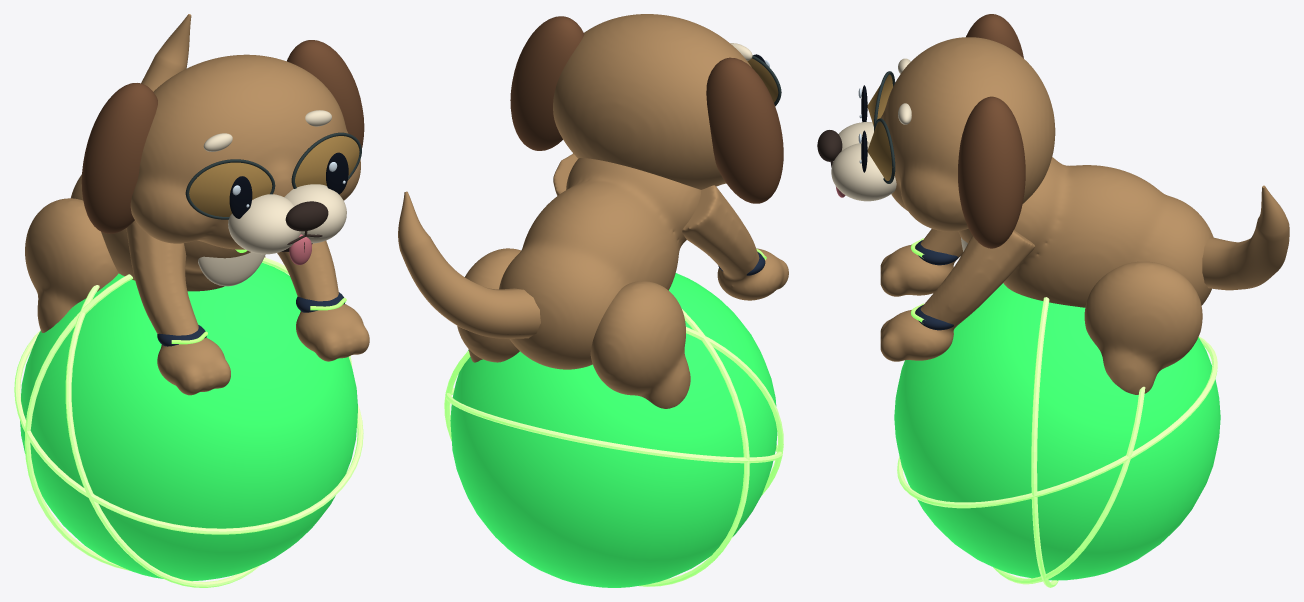
The model's file is green-dog.glb.
3 views of the same model, side by side, from view 1: azimuth 30°, elevation 25°; view 2: azimuth 150°, elevation 25°; view 3: azimuth 270°, elevation 25° (orthographic). The views are drawn at different scales.
Visible parts, largest first — view 1: Gliding orb, Feline head sculpt, Foreleg and soft paw, Bent rear leg, Floppy puppy ear, Foreleg and soft paw.001, Orb energy ring, Floppy puppy ear.001, Puppy muzzle, Orb energy ring.001, Almond jade eye, Cat torso sculpt (+11 smaller); view 2: Gliding orb, Cat torso sculpt, Feline head sculpt, Bent rear leg, Floppy puppy ear, Happy raised tail, Floppy puppy ear.001, Foreleg and soft paw, Bent rear leg.001, Orb energy ring, Orb energy ring.002, Orb energy ring.001 (+1 smaller); view 3: Gliding orb, Cat torso sculpt, Feline head sculpt, Bent rear leg.001, Floppy puppy ear.001, Foreleg and soft paw.001, Happy raised tail, Foreleg and soft paw, Orb energy ring, Puppy muzzle.001, Orb energy ring.002, Orb energy ring.001 (+4 smaller).
Boxes of the visible parts, x1=… form: Gliding orb: x1=20, y1=262, x2=357, y2=581; Feline head sculpt: x1=130, y1=54, x2=360, y2=249; Foreleg and soft paw: x1=126, y1=220, x2=230, y2=395; Bent rear leg: x1=25, y1=198, x2=118, y2=332; Floppy puppy ear: x1=81, y1=83, x2=157, y2=233; Foreleg and soft paw.001: x1=277, y1=240, x2=369, y2=361; Orb energy ring: x1=14, y1=330, x2=363, y2=534; Floppy puppy ear.001: x1=287, y1=40, x2=364, y2=148; Puppy muzzle: x1=228, y1=194, x2=301, y2=254; Orb energy ring.001: x1=65, y1=285, x2=260, y2=587; Almond jade eye: x1=189, y1=162, x2=272, y2=216; Cat torso sculpt: x1=71, y1=174, x2=250, y2=291; Gliding orb: x1=450, y1=273, x2=777, y2=587; Cat torso sculpt: x1=499, y1=158, x2=701, y2=369; Feline head sculpt: x1=553, y1=14, x2=751, y2=189; Bent rear leg: x1=590, y1=281, x2=690, y2=408; Floppy puppy ear: x1=706, y1=57, x2=783, y2=203; Happy raised tail: x1=398, y1=191, x2=540, y2=338; Floppy puppy ear.001: x1=510, y1=16, x2=584, y2=150; Foreleg and soft paw: x1=682, y1=185, x2=788, y2=300; Bent rear leg.001: x1=457, y1=248, x2=521, y2=362; Orb energy ring: x1=445, y1=388, x2=782, y2=463; Orb energy ring.002: x1=639, y1=309, x2=749, y2=586; Orb energy ring.001: x1=444, y1=327, x2=783, y2=495; Gliding orb: x1=894, y1=283, x2=1220, y2=580; Cat torso sculpt: x1=958, y1=157, x2=1213, y2=307; Feline head sculpt: x1=881, y1=37, x2=1055, y2=231; Bent rear leg.001: x1=1084, y1=261, x2=1202, y2=394; Floppy puppy ear.001: x1=958, y1=96, x2=1025, y2=248; Foreleg and soft paw.001: x1=880, y1=230, x2=1035, y2=361; Happy raised tail: x1=1202, y1=185, x2=1289, y2=290; Foreleg and soft paw: x1=880, y1=229, x2=963, y2=296; Orb energy ring: x1=897, y1=336, x2=1217, y2=508; Puppy muzzle.001: x1=831, y1=142, x2=896, y2=201; Orb energy ring.002: x1=1031, y1=297, x2=1058, y2=587; Orb energy ring.001: x1=993, y1=386, x2=1145, y2=584.
Bounding box in the file's own units: 1.51 × 2.54 × 2.08.
